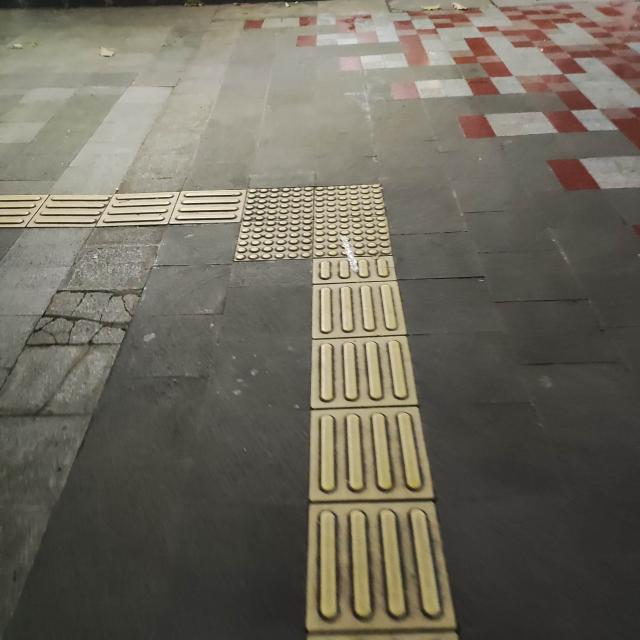kiri: (120, 152, 432, 296)
